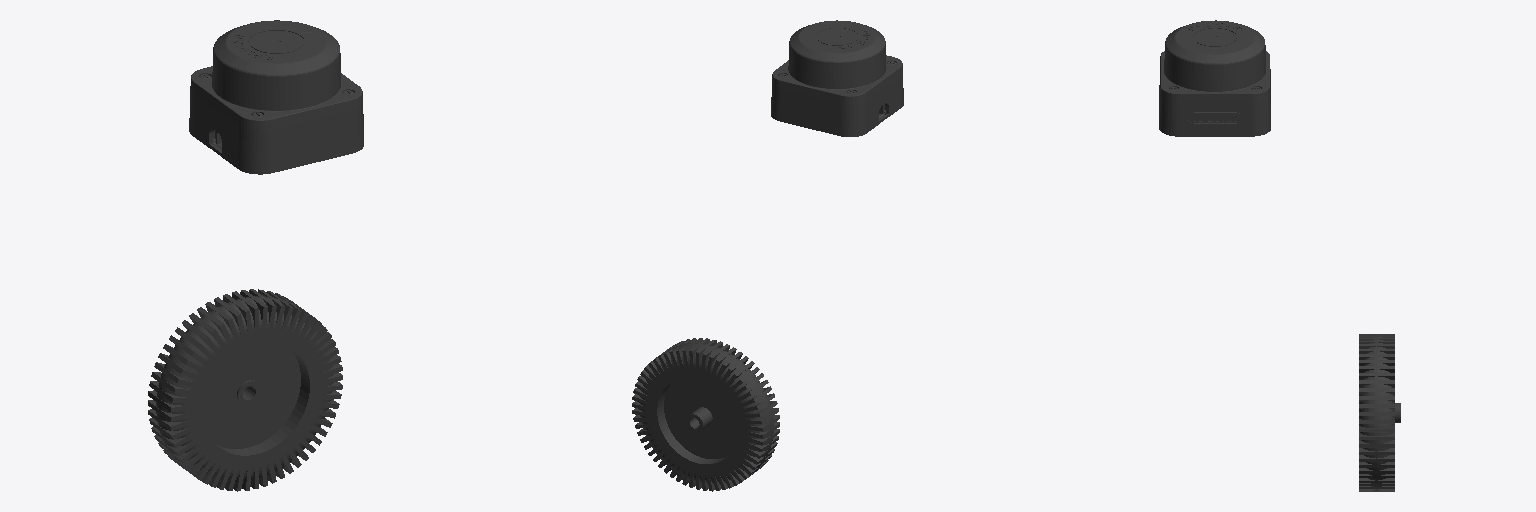
robot.urdf — wafflebot:
<?xml version="1.0" ?>
<robot name="wafflebot"
  xmlns:xacro="http://ros.org/wiki/xacro">
  <!-- <xacro:include filename="$(find wafflebot_description)/urdf/common_properties.urdf"/> -->

  <!-- Init colour -->
  <material name="black">
      <color rgba="0.0 0.0 0.0 1.0"/>
  </material>

  <material name="dark">
    <color rgba="0.3 0.3 0.3 1.0"/>
  </material>

  <material name="light_black">
    <color rgba="0.4 0.4 0.4 1.0"/>
  </material>

  <material name="blue">
    <color rgba="0.0 0.0 0.8 1.0"/>
  </material>

  <material name="green">
    <color rgba="0.0 0.8 0.0 1.0"/>
  </material>

  <material name="grey">
    <color rgba="0.5 0.5 0.5 1.0"/>
  </material>

  <material name="orange">
    <color rgba="1.0 0.4235 0.0392 1.0"/>
  </material>

  <material name="brown">
    <color rgba="0.8706 0.8118 0.7647 1.0"/>
  </material>

  <material name="red">
    <color rgba="0.8 0.0 0.0 1.0"/>
  </material>

  <material name="white">
    <color rgba="1.0 1.0 1.0 1.0"/>
  </material>

  <link name="base_footprint"/>

  <joint name="base_joint" type="fixed">
    <parent link="base_footprint"/>
    <child link="base_link"/>
    <origin xyz="0.0 0.0 0.010" rpy="0 0 0"/>
  </joint>

  <link name="base_link">
    <visual>
      <origin xyz="-0.032 0 0.03" rpy="0 0 0"/>
      <geometry>
        <mesh filename="package://wafflebot_description/meshes/burger_base.stl" scale="0.001 0.001 0.001"/>
      </geometry>
      <material name="light_black"/>
    </visual>

    <collision>
      <origin xyz="-0.032 0 0.070" rpy="0 0 0"/>
      <geometry>
        <box size="0.140 0.140 0.143"/>
      </geometry>
    </collision>

    <inertial>
      <origin xyz="0 0 0" rpy="0 0 0"/>
      <mass value="8.2573504e-01"/>
      <inertia ixx="2.2124416e-03" ixy="-1.2294101e-05" ixz="3.4938785e-05" iyy="2.1193702e-03" iyz="-5.0120904e-06" izz="2.0064271e-03" />
    </inertial>
  </link>

  <joint name="wheel_left_joint" type="continuous">
    <parent link="base_link"/>
    <child link="wheel_left_link"/>
    <origin xyz="0.0 0.08 0.023" rpy="-1.57 0 0"/>
    <axis xyz="0 0 1"/>
  </joint>

  <link name="wheel_left_link">
    <visual>
      <origin xyz="0 0 0" rpy="1.57 0 0"/>
      <geometry>
        <mesh filename="package://wafflebot_description/meshes/left_tire.stl" scale="0.001 0.001 0.001"/>
      </geometry>
      <material name="dark"/>
    </visual>

    <collision>
      <origin xyz="0 0 0" rpy="0 0 0"/>
      <geometry>
        <cylinder length="0.018" radius="0.033"/>
      </geometry>
    </collision>

    <inertial>
      <origin xyz="0 0 0" />
      <mass value="2.8498940e-02" />
      <inertia ixx="1.1175580e-05" ixy="-4.2369783e-11" ixz="-5.9381719e-09" iyy="1.1192413e-05" iyz="-1.4400107e-11" izz="2.0712558e-05" />
    </inertial>
  </link>

  <joint name="wheel_right_joint" type="continuous">
    <parent link="base_link"/>
    <child link="wheel_right_link"/>
    <origin xyz="0.0 -0.080 0.023" rpy="-1.57 0 0"/>
    <axis xyz="0 0 1"/>
  </joint>

  <link name="wheel_right_link">
    <visual>
      <origin xyz="0 0 0" rpy="1.57 0 0"/>
      <geometry>
        <mesh filename="package://wafflebot_description/meshes/right_tire.stl" scale="0.001 0.001 0.001"/>
      </geometry>
      <material name="dark"/>
    </visual>

    <collision>
      <origin xyz="0 0 0" rpy="0 0 0"/>
      <geometry>
        <cylinder length="0.018" radius="0.033"/>
      </geometry>
    </collision>

    <inertial>
      <origin xyz="0 0 0" />
      <mass value="2.8498940e-02" />
      <inertia ixx="1.1175580e-05" ixy="-4.2369783e-11" ixz="-5.9381719e-09" iyy="1.1192413e-05" iyz="-1.4400107e-11" izz="2.0712558e-05" />
    </inertial>
  </link>

  <joint name="caster_back_joint" type="fixed">
    <parent link="base_link"/>
    <child link="caster_back_link"/>
    <origin xyz="-0.081 0 -0.004" rpy="-1.57 0 0"/>
  </joint>

  <link name="caster_back_link">
    <collision>
      <origin xyz="0 0.001 0" rpy="0 0 0"/>
      <geometry>
        <box size="0.030 0.009 0.020"/>
      </geometry>
    </collision>

    <inertial>
      <origin xyz="0 0 0" />
      <mass value="0.005" />
      <inertia ixx="0.001" ixy="0.0" ixz="0.0" iyy="0.001" iyz="0.0" izz="0.001" />
    </inertial>
  </link>

  <joint name="imu_joint" type="fixed">
    <parent link="base_link"/>
    <child link="imu_link"/>
    <origin xyz="-0.032 0 0.068" rpy="0 0 0"/>
  </joint>

  <link name="imu_link"/>

  <joint name="scan_joint" type="fixed">
    <parent link="base_link"/>
    <child link="base_scan"/>
    <origin xyz="-0.032 0 0.172" rpy="0 0 0"/>
  </joint>

  <link name="base_scan">
    <visual>
      <origin xyz="0 0 0.0" rpy="0 0 0"/>
      <geometry>
        <mesh filename="package://wafflebot_description/meshes/lds.stl" scale="0.001 0.001 0.001"/>
      </geometry>
      <material name="dark"/>
    </visual>

    <collision>
      <origin xyz="0.015 0 -0.0065" rpy="0 0 0"/>
      <geometry>
        <cylinder length="0.0315" radius="0.055"/>
      </geometry>
    </collision>

    <inertial>
      <mass value="0.114" />
      <origin xyz="0 0 0" />
      <inertia ixx="0.001" ixy="0.0" ixz="0.0" iyy="0.001" iyz="0.0" izz="0.001" />
    </inertial>
  </link>

</robot>

--- Render facts (derived) ---
The picture shows the robot from 3 angles, left to right: view 1: azimuth 30°, elevation 25°; view 2: azimuth 150°, elevation 25°; view 3: azimuth 270°, elevation 25°; orthographic projection.
Robot: wafflebot — 7 links, 6 joints (2 continuous, 4 fixed); root link base_footprint; default pose: every joint at zero.
Links seen in each view (by area): view 1: wheel_left_link, base_scan; view 2: wheel_left_link, base_scan; view 3: base_scan, wheel_left_link.
Link boxes in pixels (x1,y1,x2,y2): wheel_left_link: [148, 289, 342, 491]; base_scan: [189, 20, 363, 174]; wheel_left_link: [632, 338, 779, 491]; base_scan: [771, 20, 903, 136]; base_scan: [1159, 20, 1270, 136]; wheel_left_link: [1359, 334, 1400, 491].
Size in the robot's own frame: 0.0988 by 0.1198 by 0.2293 metres.
Meshes: 4 distinct files referenced, 2 mesh visuals loaded (2 binary STL); not drawn: 2 (reference not matched to a file when rendering).